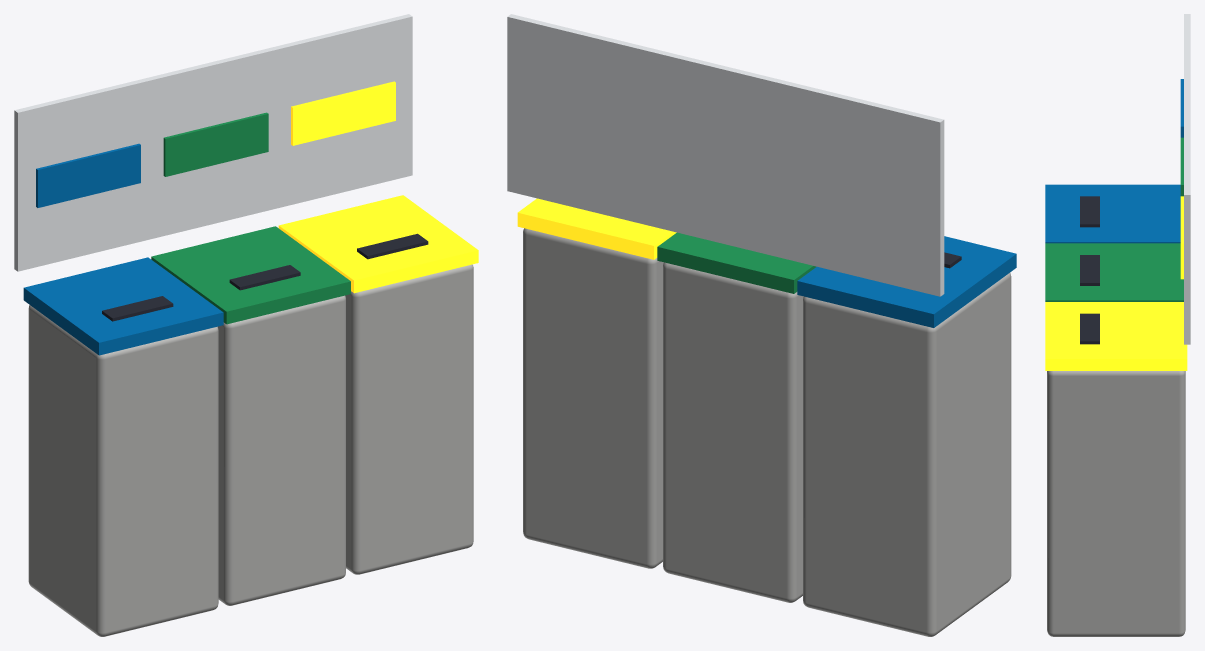
The model's file is ame-021.glb.
3 views of the same model, side by side, from view 1: azimuth 30°, elevation 25°; view 2: azimuth 150°, elevation 25°; view 3: azimuth 270°, elevation 25° (orthographic). The views are drawn at different scales.
Visible parts, largest first — view 1: laminate_grey, white, safety_blue, safety_green, sign_yellow, plastic_dark; view 2: laminate_grey, white, safety_blue, sign_yellow, safety_green; view 3: laminate_grey, sign_yellow, safety_blue, safety_green, white, plastic_dark.
Part boxes in pixels (x1,y1,x2,y2): laminate_grey: (28,264,473,636); white: (14,14,412,271); safety_blue: (23,143,223,355); safety_green: (151,112,350,324); sign_yellow: (278,81,478,293); plastic_dark: (102,233,428,321); laminate_grey: (523,228,1011,636); white: (507,14,944,296); safety_blue: (797,236,1016,327); sign_yellow: (517,198,676,259); safety_green: (657,232,816,293); laminate_grey: (1047,371,1185,636); sign_yellow: (1045,196,1187,370); safety_blue: (1045,79,1183,243); safety_green: (1045,137,1183,301); white: (1184,14,1190,344); plastic_dark: (1080,196,1099,344).
Size of the model in its own units: 1.3 by 1.5 by 0.44.
